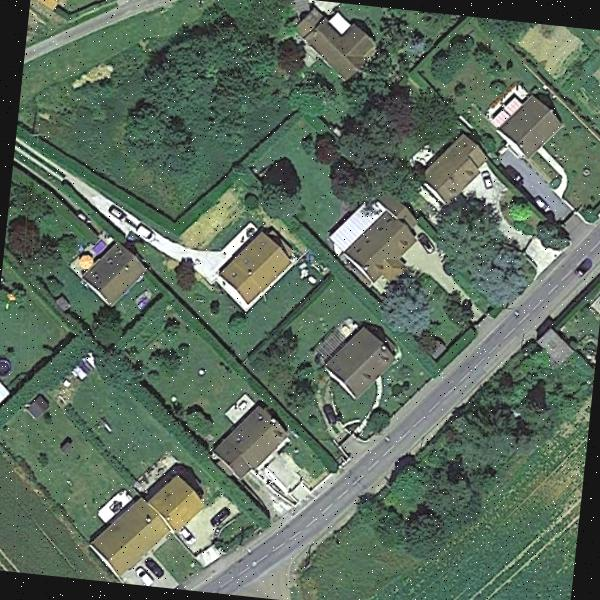Buildings: (122, 470, 199, 584), (291, 1, 376, 85), (488, 92, 568, 157), (347, 214, 420, 278), (224, 232, 286, 300), (84, 242, 145, 297), (332, 329, 387, 384), (224, 417, 275, 468), (432, 145, 478, 196), (31, 0, 67, 22)
